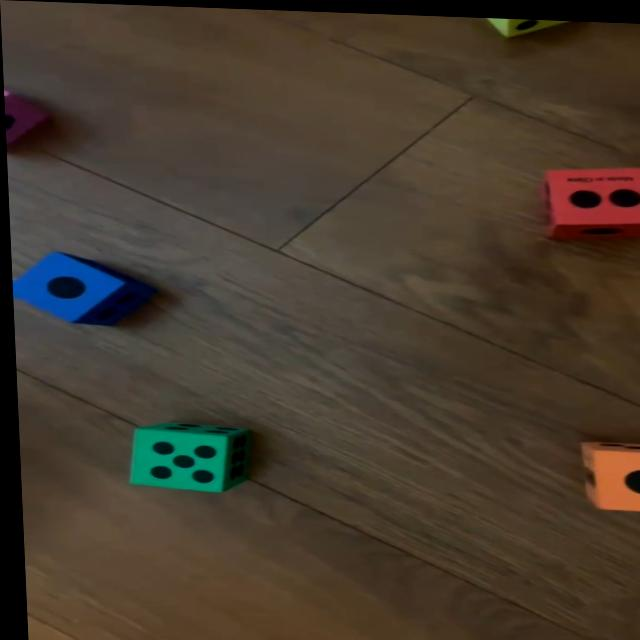blue_block: (9, 252, 152, 325)
red_block: (539, 160, 640, 235)
